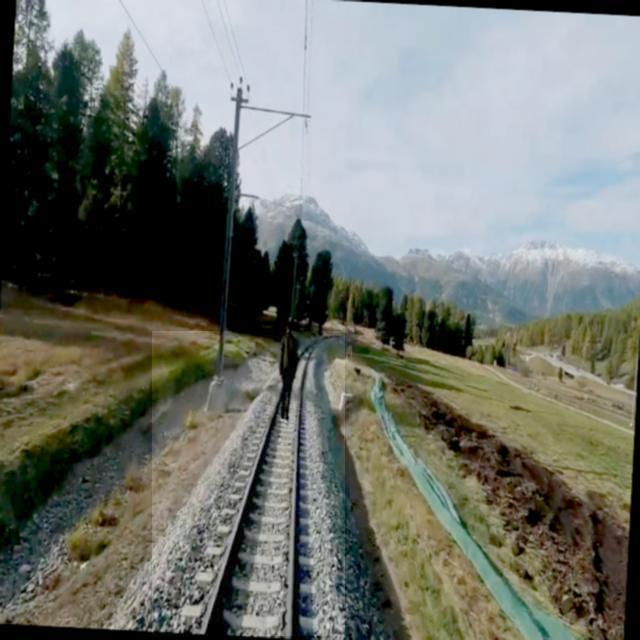rail: (153, 332, 346, 637)
